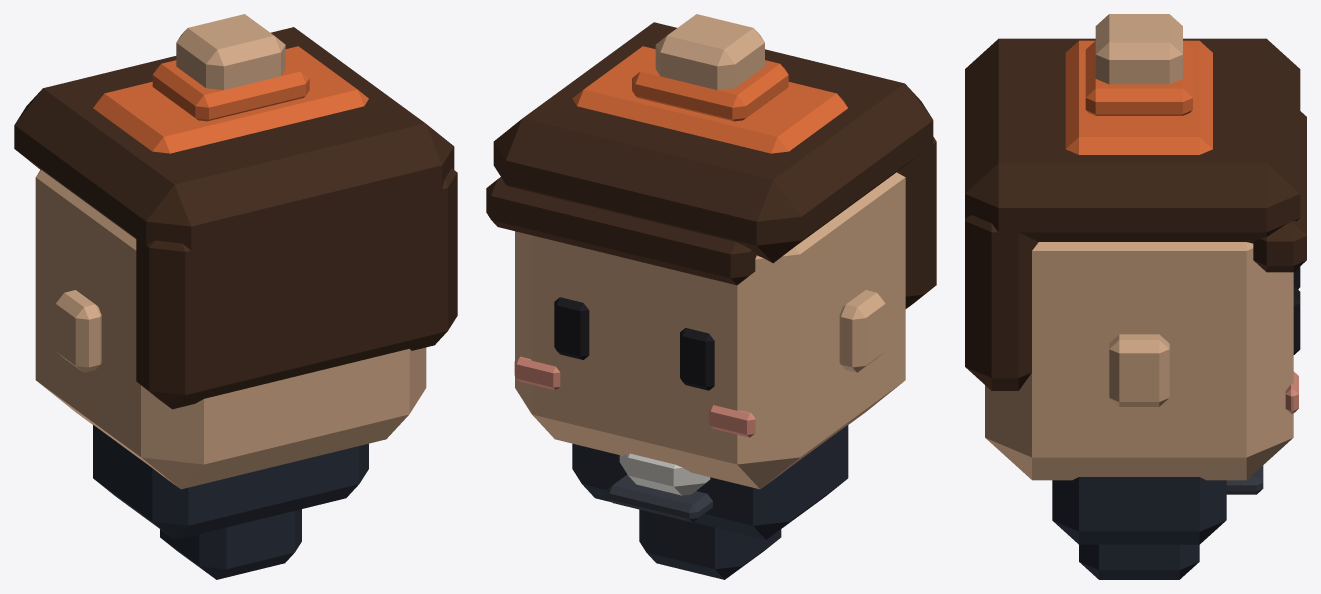
File: player.glb
3 views of the same model, side by side, from view 1: azimuth 30°, elevation 25°; view 2: azimuth 150°, elevation 25°; view 3: azimuth 270°, elevation 25° (orthographic).
Visible parts, largest first — view 1: head, torso, pelvis, thigh; view 2: head, torso, pelvis, thigh, shoe; view 3: head, torso, pelvis, thigh, shoe.
Part boxes in pixels (x1,y1,x2,y2): head: (14,27,457,489); torso: (93,14,368,153); pelvis: (93,425,368,539); thigh: (160,509,301,579); head: (486,22,936,489); torso: (572,14,847,153); pelvis: (572,425,848,539); thigh: (639,509,781,579); shoe: (607,453,712,522); head: (965,38,1306,480); torso: (1065,14,1212,154); pelvis: (1052,477,1226,544); thigh: (1079,544,1199,579); shoe: (1226,465,1263,494).
Size of the model in its own units: 0.58 by 0.88 by 0.51.
